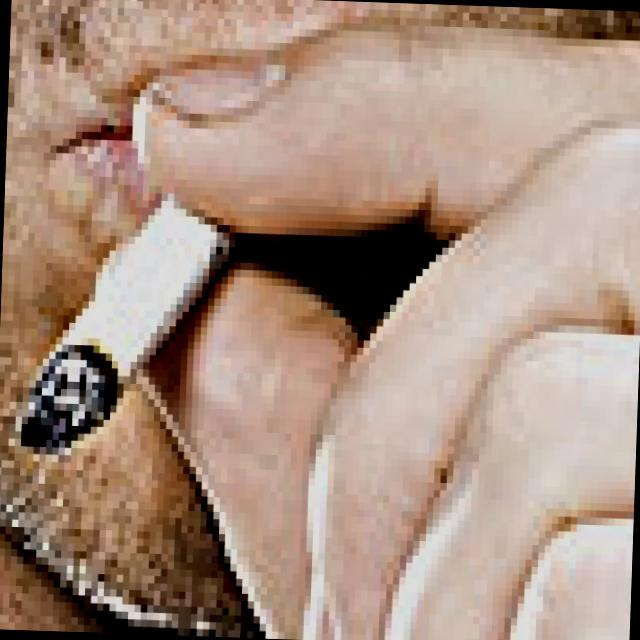cigarette: (13, 199, 175, 466)
